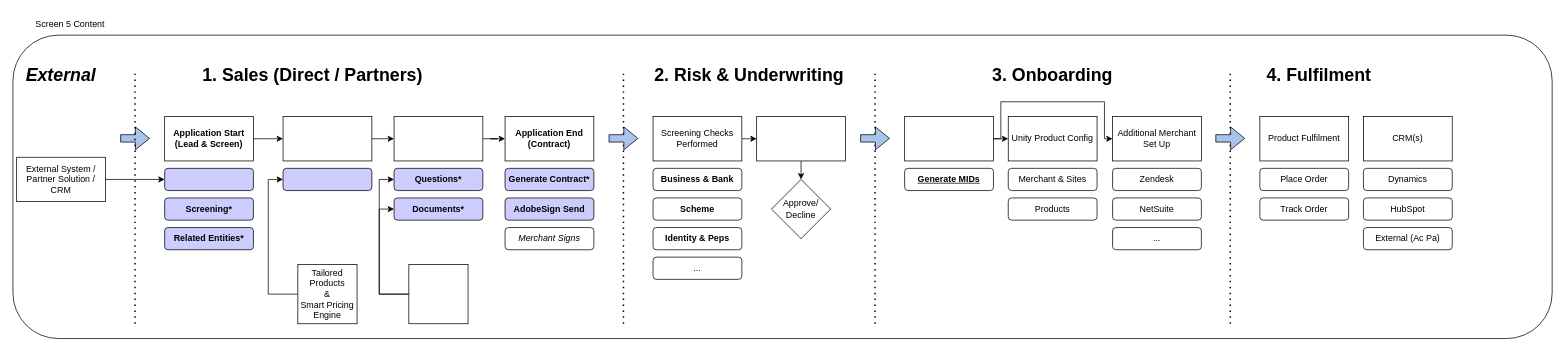
Image size: 1565x352. Some labels were removed from this diagram. Here are the shapes that lost their labels. From the top down, the centre of each, then its label:
point 327,138: Product Selection
point 438,138: Tailored Questions
point 800,138: Underwriting Team Review & Make Decision
point 948,138: Payment Service
point 208,179: Lead Information*
point 327,179: Product & Pricing*
point 438,294: Dynamic Questions
